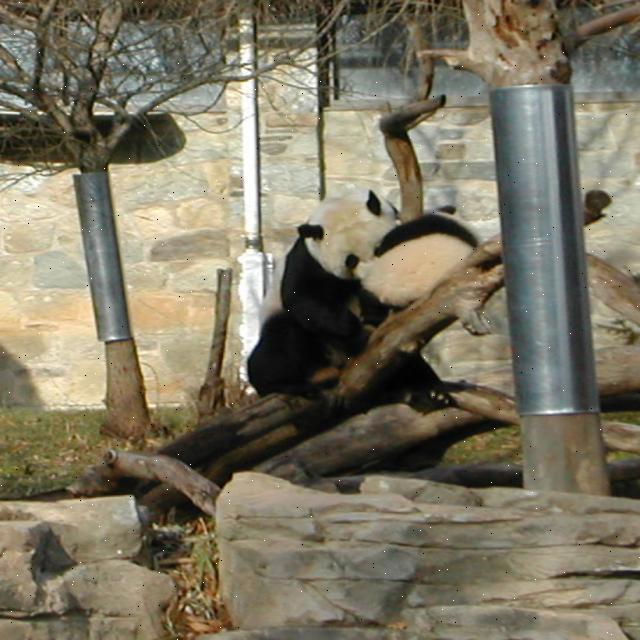panda: (244, 181, 465, 410), (355, 206, 481, 306)
